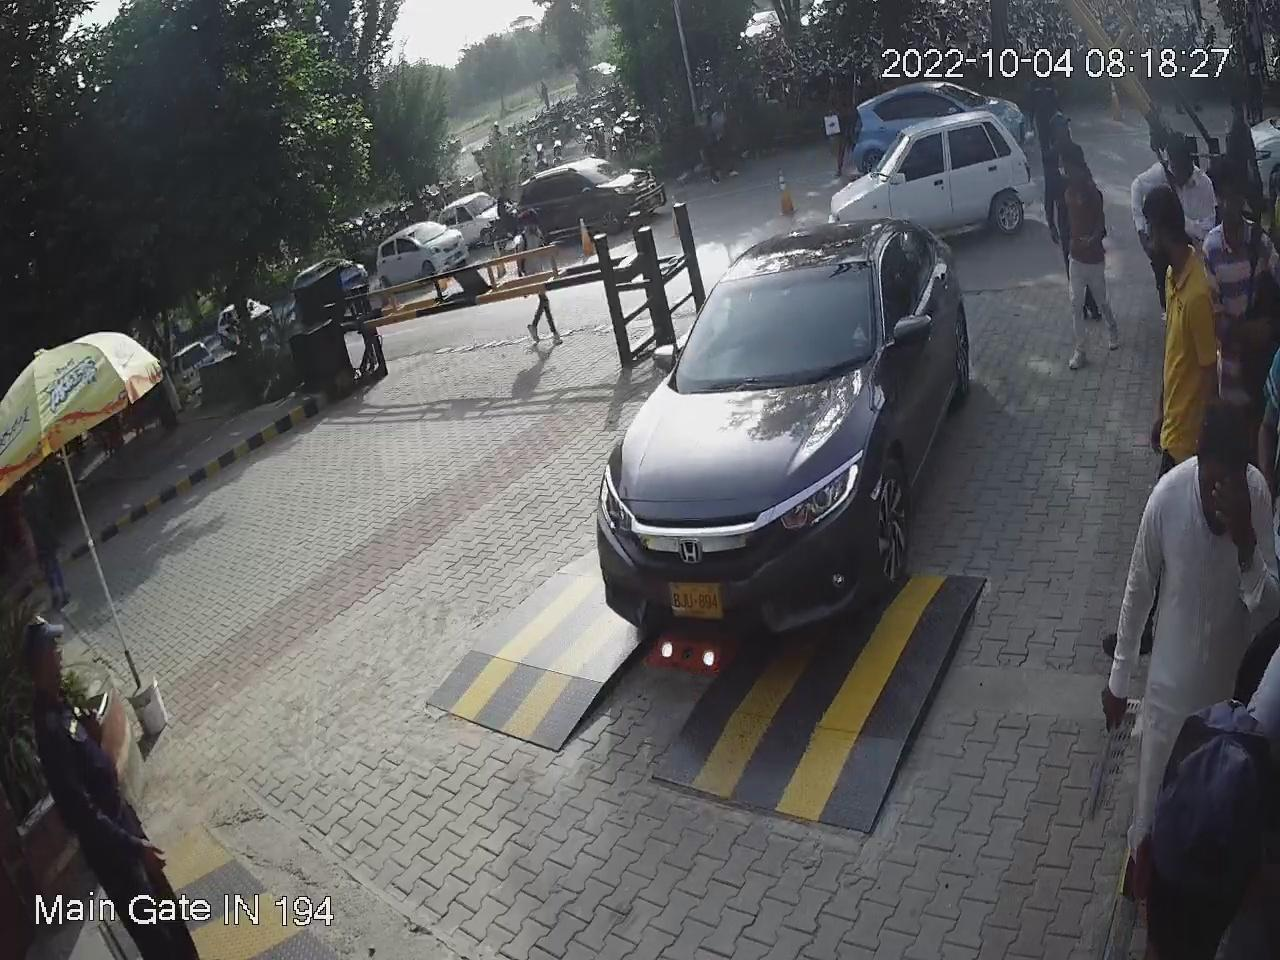windshield: (655, 255, 880, 387)
